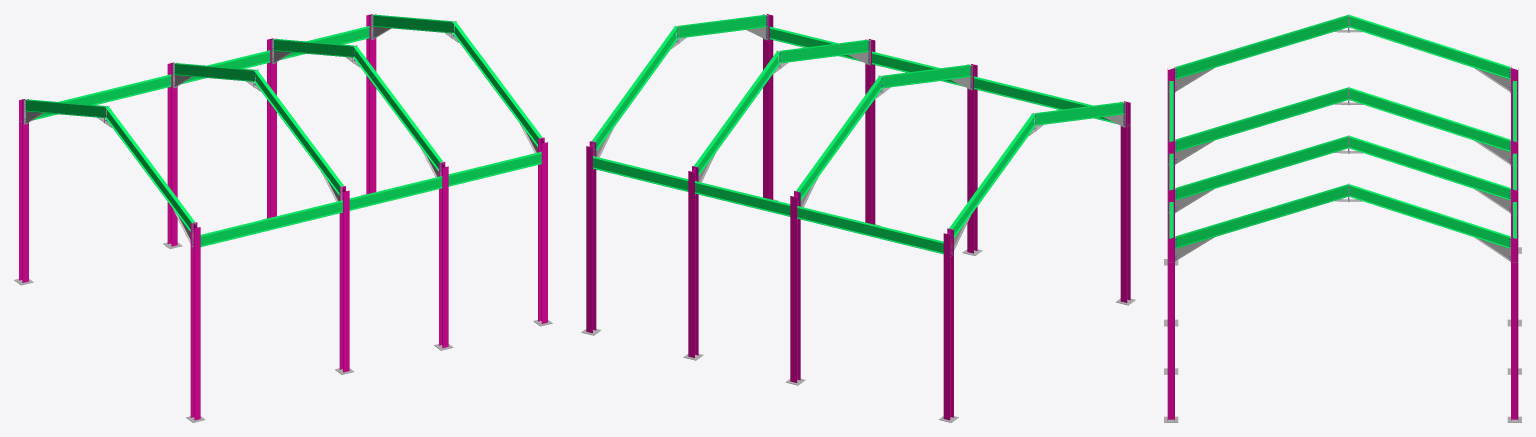
The model's file is Model_FOR_STRUMIS_CONTRACT_TESTING.bswx.gltf.
3 renders of one model, left to right at view 1: azimuth 30°, elevation 25°; view 2: azimuth 150°, elevation 25°; view 3: azimuth 270°, elevation 25°, orthographic. The views are drawn at different scales.
Parts seen in each view (by area): view 1: 1b7045ca-e96a-45fb-b2e7-1aa5a8d5338c, 31921d53-ad21-4b1c-abf3-ffe242a89e7b, 99b10f3b-f8fe-4e99-8e46-9179765318be, 44c35583-839d-4e52-9ffb-445abbe35a31, 508b41af-a247-4009-86b4-58f699dccaab, 79d69ce1-ad7c-479c-b97e-3cbb4e65bf7f, f40b4626-95ea-4c59-8484-f3314ef07cde, 2994038f-e1ab-4536-80aa-f13f7aa81d03, 2512c339-8a8a-43f1-9d9e-f05dc4bd5ac5, 0ba16743-e687-4dcc-9475-7ffcf00918a9, cccd4ac4-3bc8-43ca-9d13-cfd7733b2594, c9fb3176-9e64-4e8a-b515-c85cb2d943e9 (+10 smaller); view 2: 1b7045ca-e96a-45fb-b2e7-1aa5a8d5338c, 79d69ce1-ad7c-479c-b97e-3cbb4e65bf7f, f40b4626-95ea-4c59-8484-f3314ef07cde, 0c402de3-0272-488a-8955-164344eea9b6, 2994038f-e1ab-4536-80aa-f13f7aa81d03, 5bd616fc-38fe-43a6-a7bb-be47f95a9e5d, 31921d53-ad21-4b1c-abf3-ffe242a89e7b, 508b41af-a247-4009-86b4-58f699dccaab, 44c35583-839d-4e52-9ffb-445abbe35a31, 35b38b32-3a27-4fe7-886e-ae16b57922f0, 5106ef0e-dd8f-413c-a332-78ec80bcc681, efc5d1ae-181e-4dd5-ac41-b41838621680 (+10 smaller); view 3: c9fb3176-9e64-4e8a-b515-c85cb2d943e9, 0ba16743-e687-4dcc-9475-7ffcf00918a9, 2512c339-8a8a-43f1-9d9e-f05dc4bd5ac5, cccd4ac4-3bc8-43ca-9d13-cfd7733b2594, efc5d1ae-181e-4dd5-ac41-b41838621680, 60866c71-be49-469d-b3f0-b544ac17ff0e, 5106ef0e-dd8f-413c-a332-78ec80bcc681, 35b38b32-3a27-4fe7-886e-ae16b57922f0, 2994038f-e1ab-4536-80aa-f13f7aa81d03, 44c35583-839d-4e52-9ffb-445abbe35a31, 1b7045ca-e96a-45fb-b2e7-1aa5a8d5338c, 79d69ce1-ad7c-479c-b97e-3cbb4e65bf7f.
Boxes of the visible parts, x1=… form: 1b7045ca-e96a-45fb-b2e7-1aa5a8d5338c: x1=190, y1=222, x2=200, y2=420; 31921d53-ad21-4b1c-abf3-ffe242a89e7b: x1=339, y1=186, x2=349, y2=372; 99b10f3b-f8fe-4e99-8e46-9179765318be: x1=200, y1=200, x2=342, y2=246; 44c35583-839d-4e52-9ffb-445abbe35a31: x1=538, y1=137, x2=547, y2=323; 508b41af-a247-4009-86b4-58f699dccaab: x1=439, y1=162, x2=448, y2=348; 79d69ce1-ad7c-479c-b97e-3cbb4e65bf7f: x1=19, y1=99, x2=28, y2=282; f40b4626-95ea-4c59-8484-f3314ef07cde: x1=167, y1=62, x2=177, y2=246; 2994038f-e1ab-4536-80aa-f13f7aa81d03: x1=366, y1=14, x2=376, y2=194; 2512c339-8a8a-43f1-9d9e-f05dc4bd5ac5: x1=105, y1=106, x2=194, y2=231; 0ba16743-e687-4dcc-9475-7ffcf00918a9: x1=353, y1=46, x2=442, y2=171; cccd4ac4-3bc8-43ca-9d13-cfd7733b2594: x1=254, y1=70, x2=343, y2=195; c9fb3176-9e64-4e8a-b515-c85cb2d943e9: x1=452, y1=22, x2=541, y2=147; 1b7045ca-e96a-45fb-b2e7-1aa5a8d5338c: x1=1120, y1=101, x2=1130, y2=302; 79d69ce1-ad7c-479c-b97e-3cbb4e65bf7f: x1=943, y1=228, x2=953, y2=420; f40b4626-95ea-4c59-8484-f3314ef07cde: x1=790, y1=191, x2=800, y2=382; 0c402de3-0272-488a-8955-164344eea9b6: x1=688, y1=166, x2=698, y2=357; 2994038f-e1ab-4536-80aa-f13f7aa81d03: x1=586, y1=141, x2=596, y2=333; 5bd616fc-38fe-43a6-a7bb-be47f95a9e5d: x1=797, y1=206, x2=943, y2=254; 31921d53-ad21-4b1c-abf3-ffe242a89e7b: x1=967, y1=64, x2=977, y2=253; 508b41af-a247-4009-86b4-58f699dccaab: x1=865, y1=39, x2=875, y2=224; 44c35583-839d-4e52-9ffb-445abbe35a31: x1=763, y1=14, x2=773, y2=199; 35b38b32-3a27-4fe7-886e-ae16b57922f0: x1=694, y1=51, x2=780, y2=175; 5106ef0e-dd8f-413c-a332-78ec80bcc681: x1=796, y1=76, x2=882, y2=201; efc5d1ae-181e-4dd5-ac41-b41838621680: x1=592, y1=26, x2=678, y2=151; c9fb3176-9e64-4e8a-b515-c85cb2d943e9: x1=1175, y1=184, x2=1348, y2=248; 0ba16743-e687-4dcc-9475-7ffcf00918a9: x1=1175, y1=136, x2=1348, y2=200; 2512c339-8a8a-43f1-9d9e-f05dc4bd5ac5: x1=1175, y1=15, x2=1348, y2=79; cccd4ac4-3bc8-43ca-9d13-cfd7733b2594: x1=1175, y1=87, x2=1348, y2=151; efc5d1ae-181e-4dd5-ac41-b41838621680: x1=1349, y1=184, x2=1510, y2=248; 60866c71-be49-469d-b3f0-b544ac17ff0e: x1=1349, y1=15, x2=1510, y2=79; 5106ef0e-dd8f-413c-a332-78ec80bcc681: x1=1349, y1=87, x2=1510, y2=151; 35b38b32-3a27-4fe7-886e-ae16b57922f0: x1=1349, y1=136, x2=1510, y2=200; 2994038f-e1ab-4536-80aa-f13f7aa81d03: x1=1511, y1=236, x2=1518, y2=420; 44c35583-839d-4e52-9ffb-445abbe35a31: x1=1167, y1=236, x2=1174, y2=420; 1b7045ca-e96a-45fb-b2e7-1aa5a8d5338c: x1=1167, y1=67, x2=1174, y2=142; 79d69ce1-ad7c-479c-b97e-3cbb4e65bf7f: x1=1511, y1=66, x2=1518, y2=142.
Size of the model in its own units: 14500 by 9534 by 12500.
